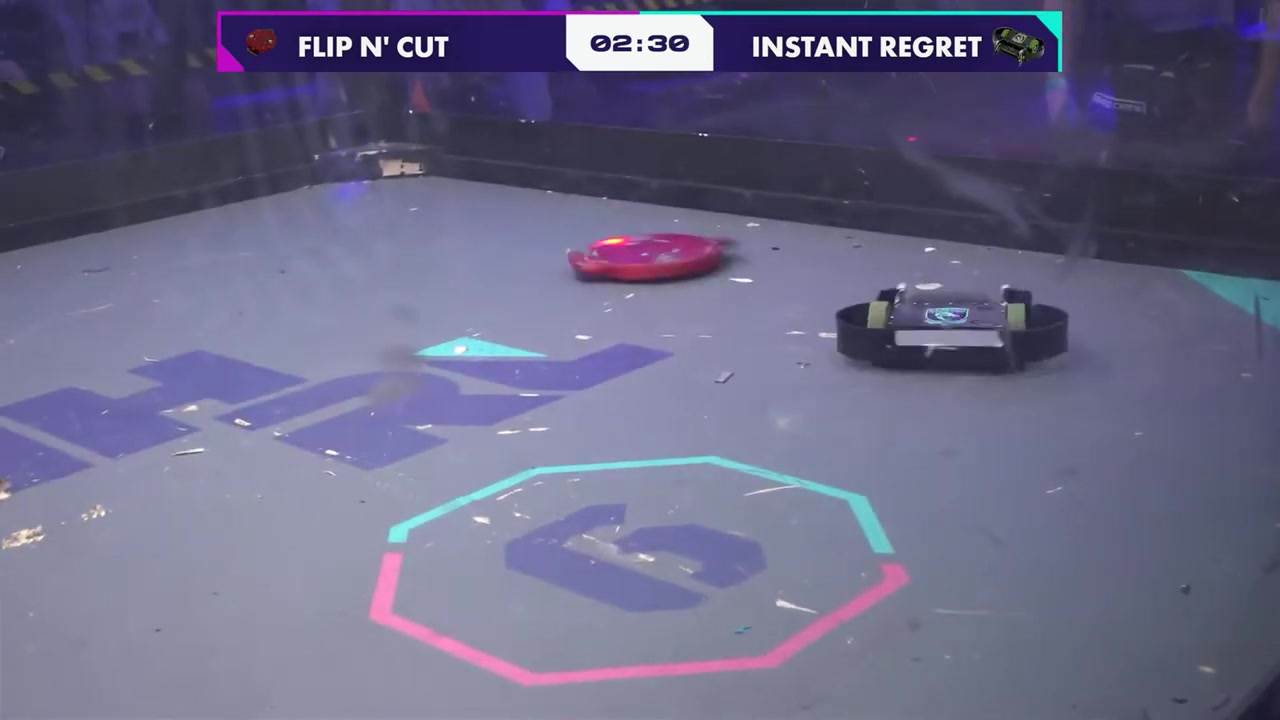combatbot: (833, 279, 1075, 376), (569, 232, 746, 286)
